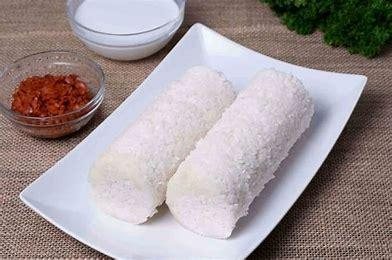Pittu: (106, 63, 322, 222)
